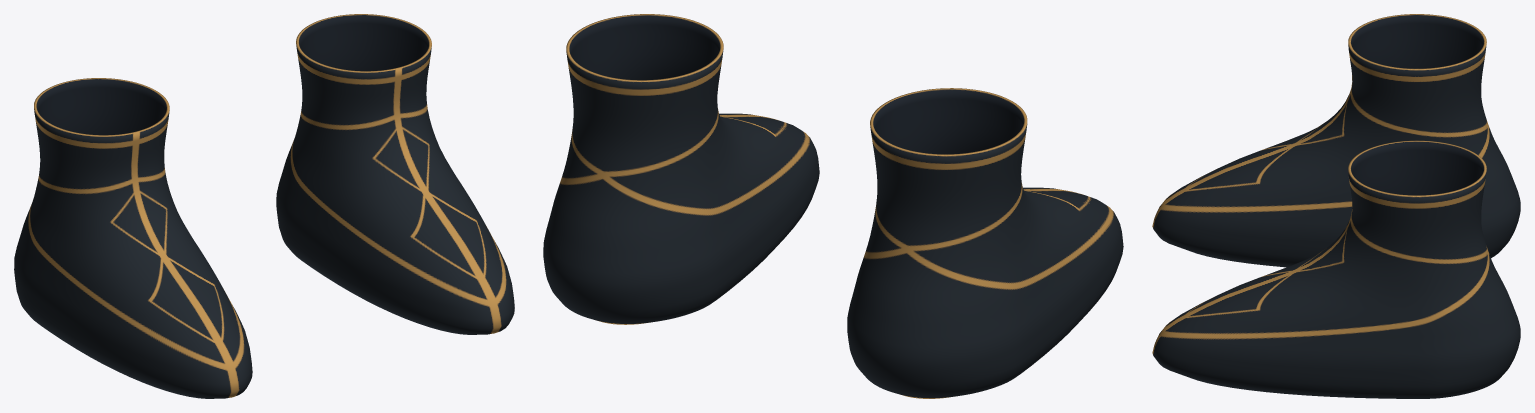
File: SM_ObsidianSovereign_Boots_preview_2K.glb
The picture shows the model from 3 angles, left to right: view 1: azimuth 30°, elevation 25°; view 2: azimuth 150°, elevation 25°; view 3: azimuth 270°, elevation 25°; orthographic projection. The views are drawn at different scales.
Visible parts, largest first — view 1: SM_ObsidianSovereign_Boots_L, SM_ObsidianSovereign_Boots_R; view 2: SM_ObsidianSovereign_Boots_L, SM_ObsidianSovereign_Boots_R; view 3: SM_ObsidianSovereign_Boots_L, SM_ObsidianSovereign_Boots_R.
Part boxes in pixels (x1=…): SM_ObsidianSovereign_Boots_L: x1=276, y1=14, x2=514, y2=334; SM_ObsidianSovereign_Boots_R: x1=14, y1=78, x2=252, y2=398; SM_ObsidianSovereign_Boots_L: x1=543, y1=14, x2=819, y2=324; SM_ObsidianSovereign_Boots_R: x1=847, y1=88, x2=1123, y2=398; SM_ObsidianSovereign_Boots_L: x1=1152, y1=140, x2=1520, y2=398; SM_ObsidianSovereign_Boots_R: x1=1152, y1=14, x2=1520, y2=267.
Bounding box in the file's own units: 0.4149 × 0.2233 × 0.3319.
Materials: 1 (1 with a texture image).
